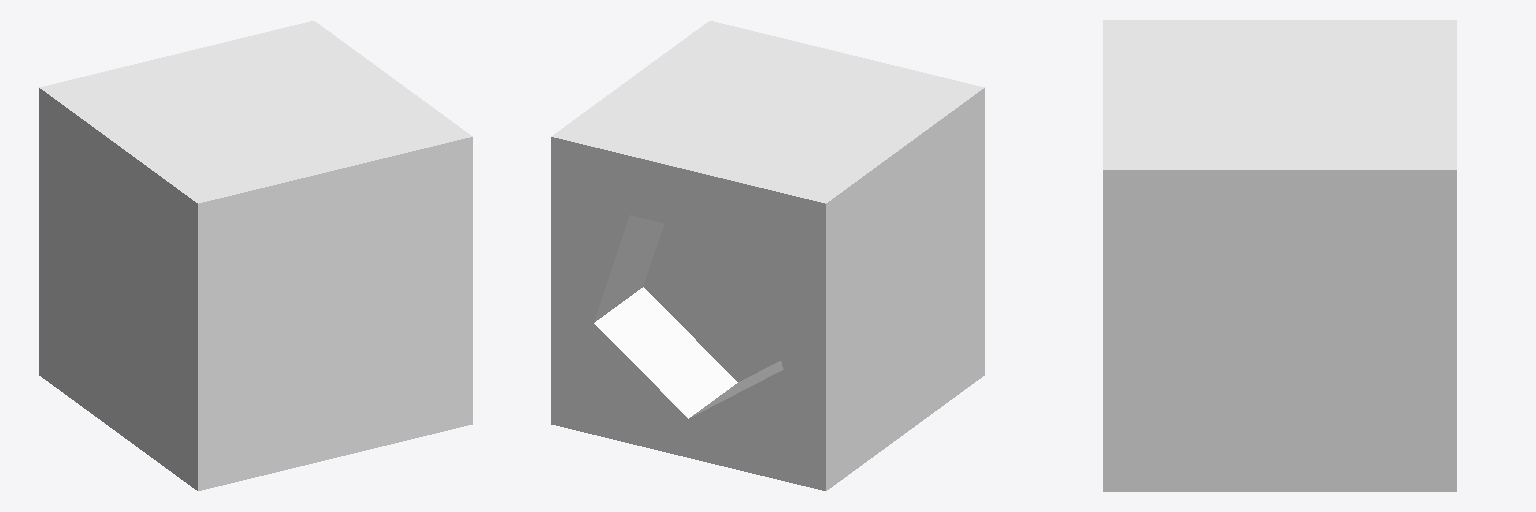
The robot description file, URDF, robot "Pentagon_cube_bottle_preprocessed":
<?xml version="1.0" ?>
<robot name="Pentagon_cube_bottle_preprocessed">
  <link name="baseLink">
    <contact>
    	<friction_anchor/>
    	   <lateral_friction value="1.0"/>
    </contact>
    <inertial>
      <origin rpy="0 0 0" xyz="0 0 0"/>
       <!-- mass controls penetration -->
       <mass value=".5"/>
       <inertia ixx="1e-4" ixy="0" ixz="0" iyy="1e-4" iyz="0" izz="1e-4"/>
    </inertial>
    <visual>
      <origin rpy="0 0 0" xyz="0 0 0"/>
      <geometry>
        <mesh filename="Pentagon_cube_bottle_preprocessed.obj"/>
      </geometry>
       <material name="white">
        <color rgba="1 1 1 1"/>
      </material>
    </visual>
    <collision>
      <origin rpy="0 0 0" xyz="0 0 0"/>
      <geometry>
        <mesh filename="Pentagon_cube_bottle_preprocessed.obj"/>
      </geometry>
    </collision>
  </link>
</robot>

--- What the picture shows (computed from the rendered views, not written in the file) ---
Views: 3 orthographic renders of the robot side by side, from view 1: azimuth 30°, elevation 25°; view 2: azimuth 150°, elevation 25°; view 3: azimuth 270°, elevation 25°.
Model Pentagon_cube_bottle_preprocessed with 1 links and 0 joints (none), rooted at baseLink, posed every joint at zero.
Links seen in each view (by area): view 1: baseLink; view 2: baseLink; view 3: baseLink.
Boxes of the visible links, x1,y1,x2,y2 form: baseLink: [39, 21, 472, 490]; baseLink: [551, 21, 984, 490]; baseLink: [1103, 20, 1456, 491].
Bounding box of the posed robot: 0.08 × 0.08 × 0.08 m (x, y, z).
1 mesh visuals loaded from 1 distinct referenced files (1 OBJ).